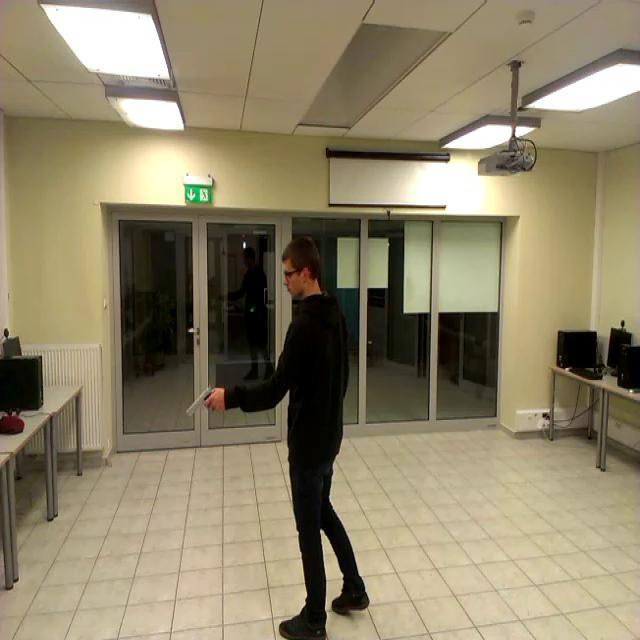Gun: (186, 384, 220, 416)
